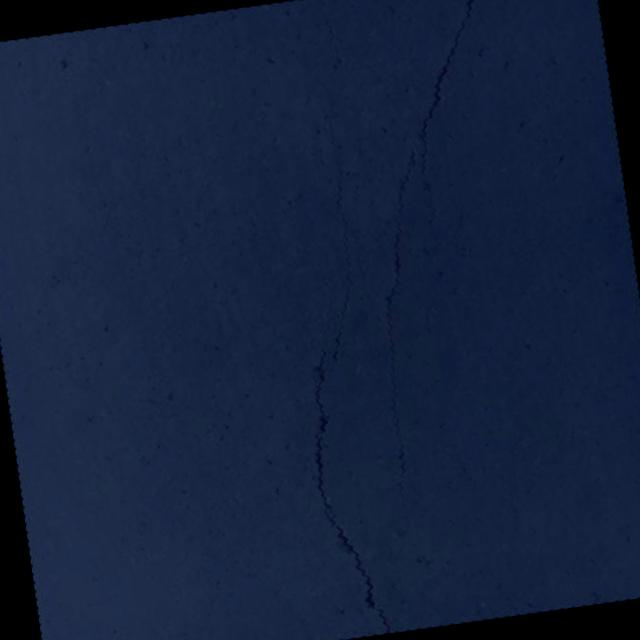crack: (322, 0, 565, 567), (259, 53, 417, 640), (319, 0, 344, 79), (344, 318, 379, 346)
